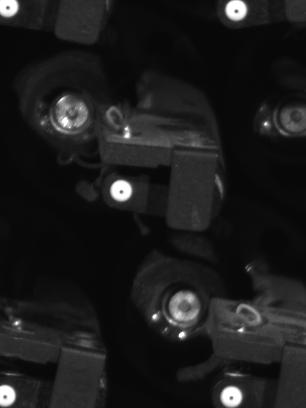fiber: (106, 175, 137, 205), (211, 383, 248, 408), (218, 1, 254, 26), (1, 381, 24, 408), (1, 1, 23, 22)
